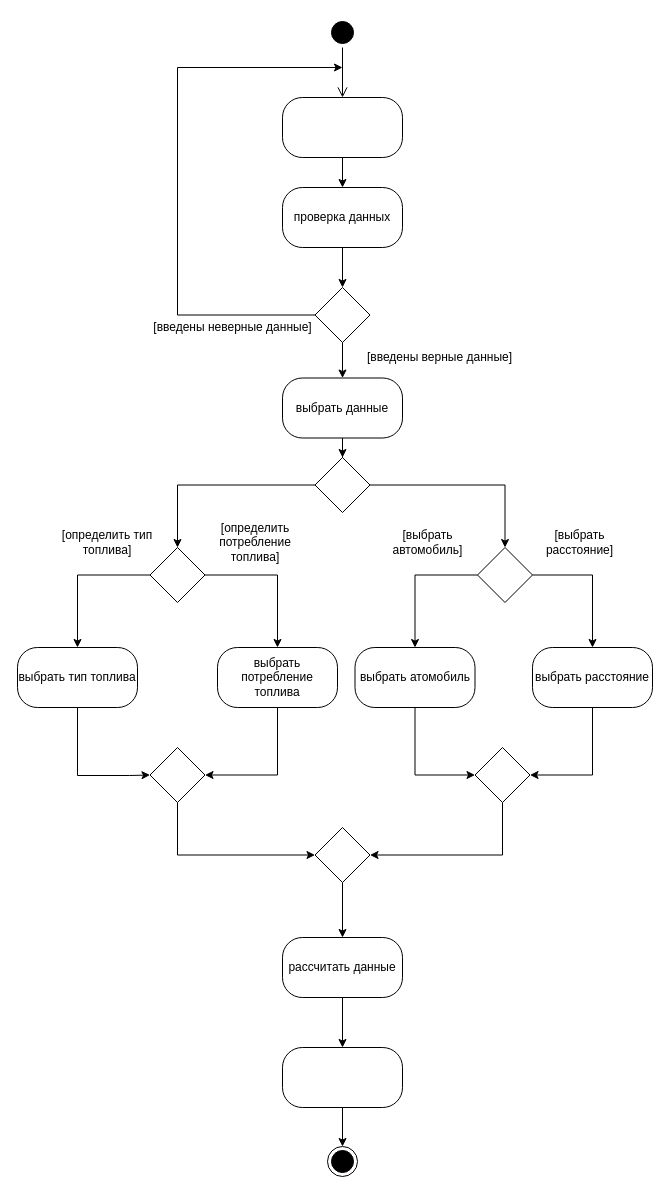
Some shapes in this 670 by 1194 pixel diagram are drawn without their labels. The centre of each missing label's shape, as x and y in pixels:
"Заполнить данные о поездке" goes at (x=342, y=127).
"оформить отчет" goes at (x=342, y=1077).
